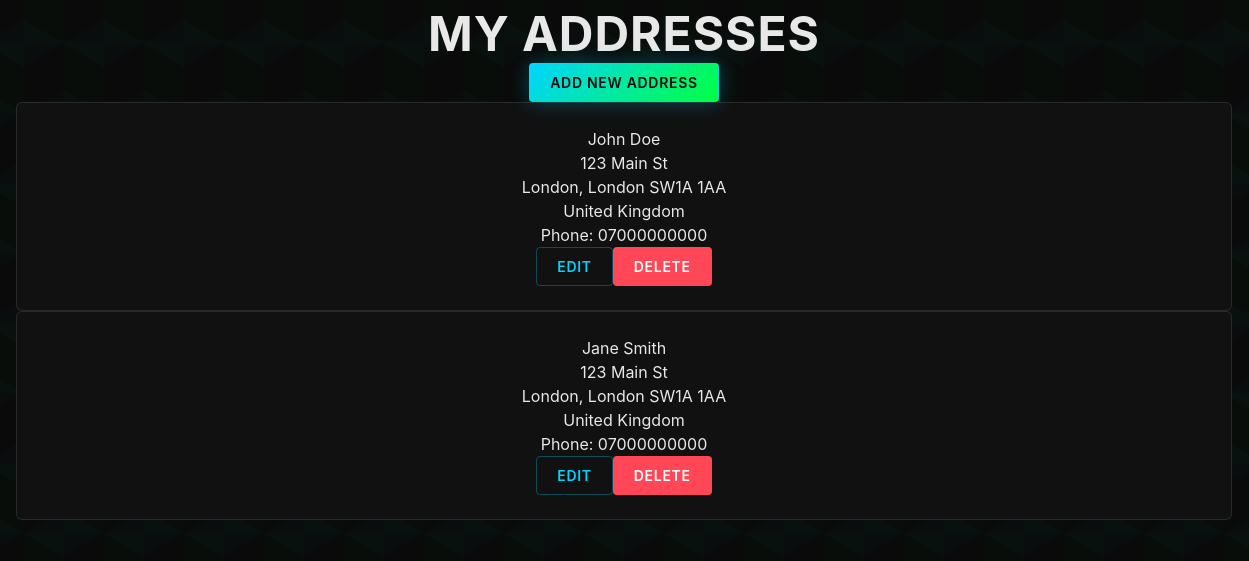
Test: MyAddressesPage › shows delete error when delete fails
The width and height of the screenshot is (1249, 561).
Expected: the text "John Doe" is shown, [588,129,660,149]
Click the button "Delete" below "John Doe" at (662, 266), box [613,247,712,286]
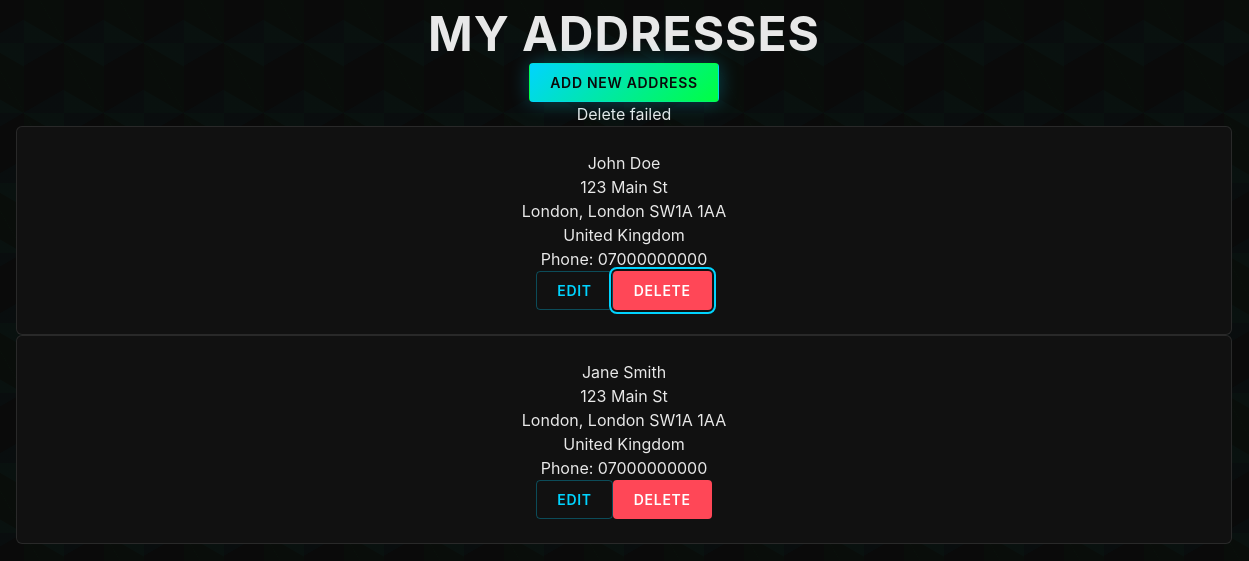
Result: the message reads "Delete failed" at [577,104,671,124]
